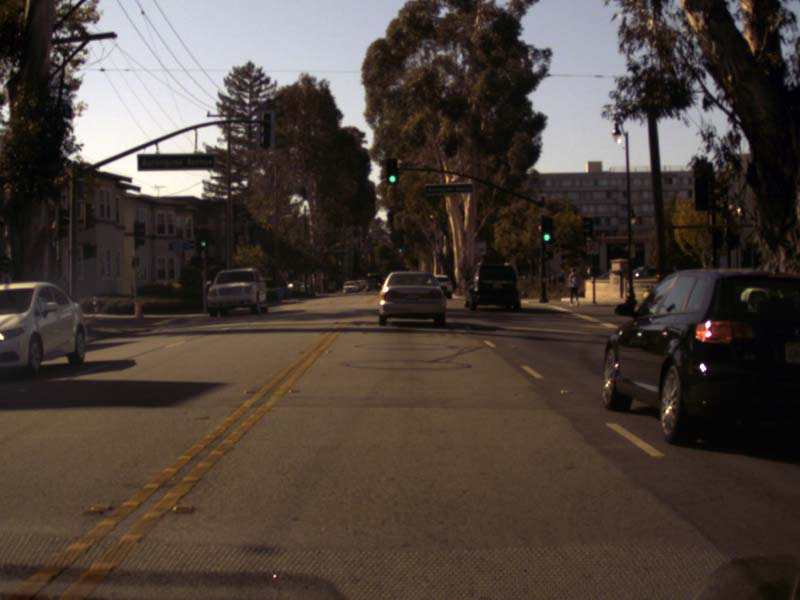Green: (386, 159, 398, 184), (540, 217, 552, 241), (197, 228, 207, 249)
